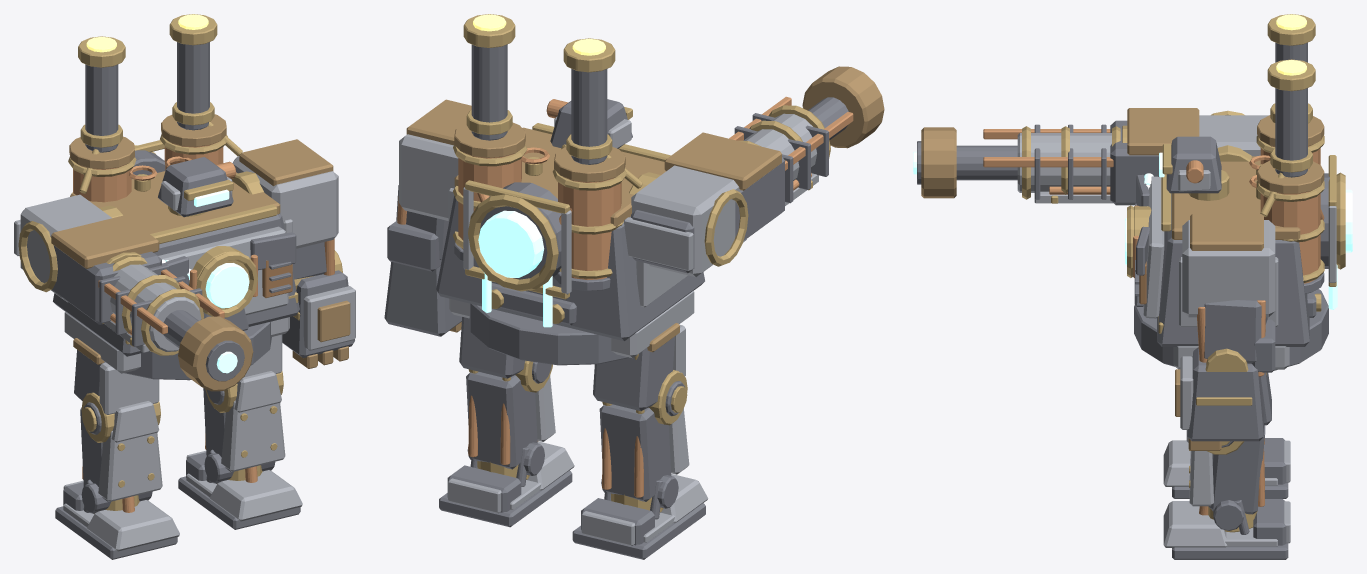
The model's file is gearforge_titan.glb.
The picture shows the model from 3 angles, left to right: view 1: azimuth 30°, elevation 25°; view 2: azimuth 150°, elevation 25°; view 3: azimuth 270°, elevation 25°; orthographic projection. The views are drawn at different scales.
Visible parts, largest first — view 1: gearforge_titan_steel_lod0, gearforge_titan_dark_iron_lod0, gearforge_titan_bronze_lod0, gearforge_titan_brass_lod0, gearforge_titan_copper_lod0, gearforge_titan_aether_glow_lod0, gearforge_titan_furnace_glow_lod0, gearforge_titan_rust_lod0; view 2: gearforge_titan_dark_iron_lod0, gearforge_titan_steel_lod0, gearforge_titan_brass_lod0, gearforge_titan_bronze_lod0, gearforge_titan_copper_lod0, gearforge_titan_aether_glow_lod0, gearforge_titan_furnace_glow_lod0; view 3: gearforge_titan_dark_iron_lod0, gearforge_titan_steel_lod0, gearforge_titan_bronze_lod0, gearforge_titan_brass_lod0, gearforge_titan_copper_lod0, gearforge_titan_aether_glow_lod0, gearforge_titan_furnace_glow_lod0.
Part boxes in pixels (<box>): gearforge_titan_steel_lod0: <box>14,156,355,551</box>; gearforge_titan_dark_iron_lod0: <box>52,42,354,559</box>; gearforge_titan_bronze_lod0: <box>51,114,350,391</box>; gearforge_titan_brass_lod0: <box>18,14,342,513</box>; gearforge_titan_copper_lod0: <box>73,142,334,512</box>; gearforge_titan_aether_glow_lod0: <box>162,189,249,373</box>; gearforge_titan_furnace_glow_lod0: <box>86,14,208,52</box>; gearforge_titan_rust_lod0: <box>262,260,292,297</box>; gearforge_titan_dark_iron_lod0: <box>384,44,848,559</box>; gearforge_titan_steel_lod0: <box>399,113,818,545</box>; gearforge_titan_brass_lod0: <box>453,14,830,512</box>; gearforge_titan_bronze_lod0: <box>406,66,884,352</box>; gearforge_titan_copper_lod0: <box>397,96,853,497</box>; gearforge_titan_aether_glow_lod0: <box>478,210,552,327</box>; gearforge_titan_furnace_glow_lod0: <box>473,14,605,55</box>; gearforge_titan_dark_iron_lod0: <box>917,42,1329,559</box>; gearforge_titan_steel_lod0: <box>1017,115,1336,547</box>; gearforge_titan_bronze_lod0: <box>921,108,1324,450</box>; gearforge_titan_brass_lod0: <box>1022,14,1345,532</box>; gearforge_titan_copper_lod0: <box>983,129,1324,515</box>; gearforge_titan_aether_glow_lod0: <box>913,151,1352,309</box>; gearforge_titan_furnace_glow_lod0: <box>1276,14,1306,75</box>.
Size of the model in its own units: 7.77 by 11.39 by 9.64.
